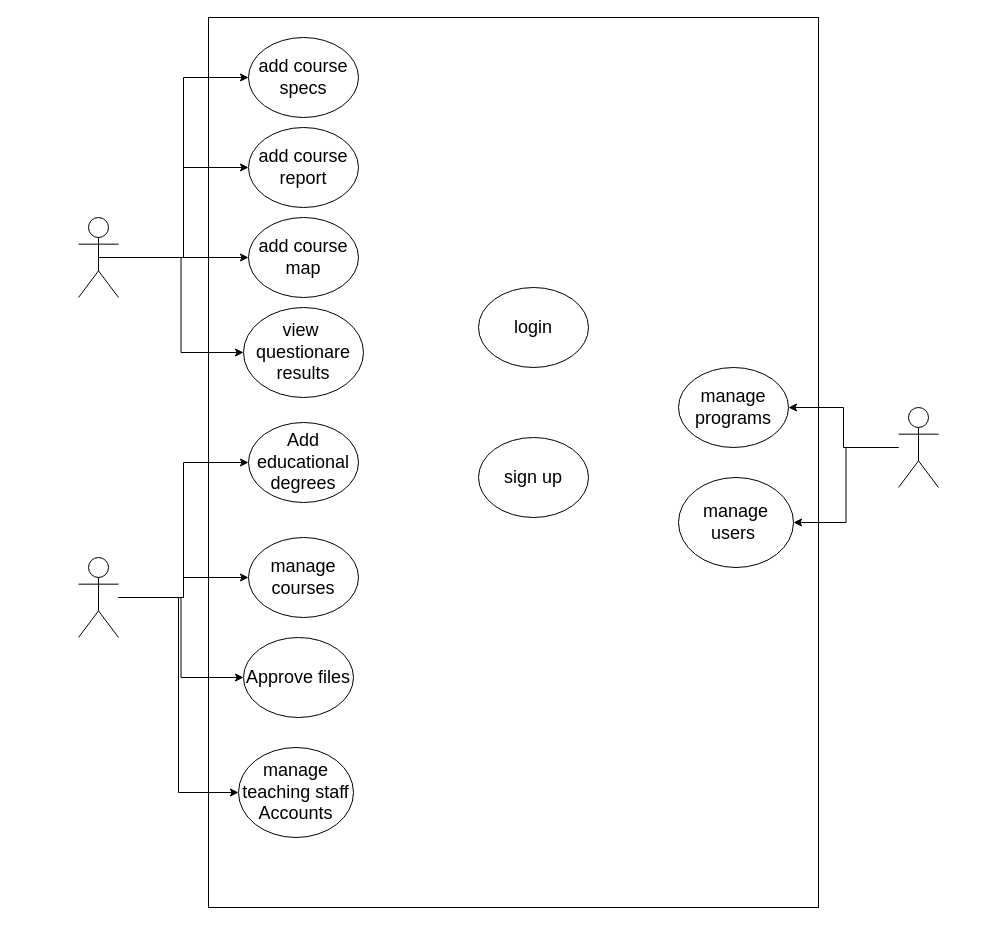
Image size: 999x925. Some labels were removed from this diagram. Here are the shapes that lost their labels. From the top down, the box of each, then its label:
(78, 216, 118, 298): teaching staff
(898, 406, 938, 488): quality manager
(78, 556, 118, 638): program coordinator
